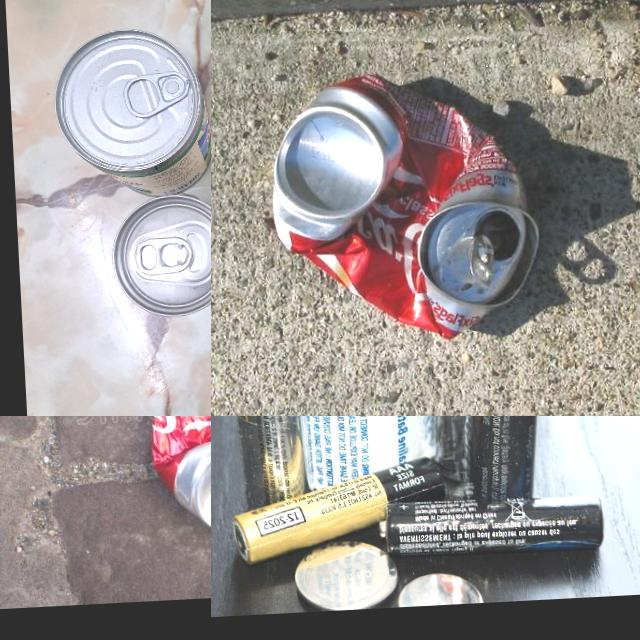aba de lata: (124, 70, 192, 120), (135, 236, 193, 276), (468, 233, 495, 288)
bateria: (228, 456, 452, 566), (261, 416, 447, 501), (378, 494, 605, 560), (452, 416, 554, 501), (224, 416, 305, 512), (426, 416, 516, 478)
lata: (266, 67, 546, 352), (51, 25, 211, 202), (110, 192, 211, 318)
